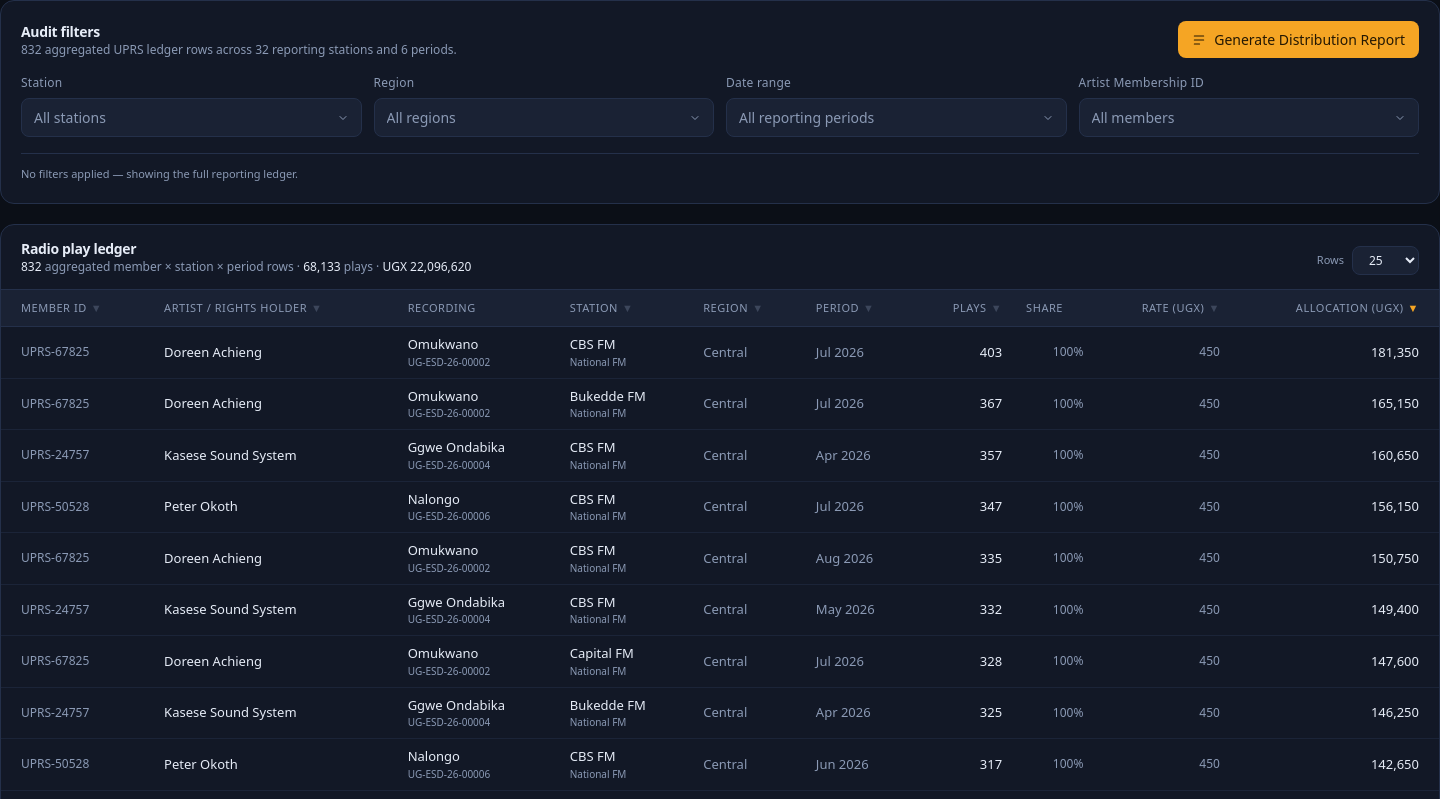
Scenario: CmoAudit › clears all filters from the chip row
What coordinates should you click on to do the following:
click the button "All regions"
I would click on:
 (421, 118)
Its box is 374,98 -> 714,137.
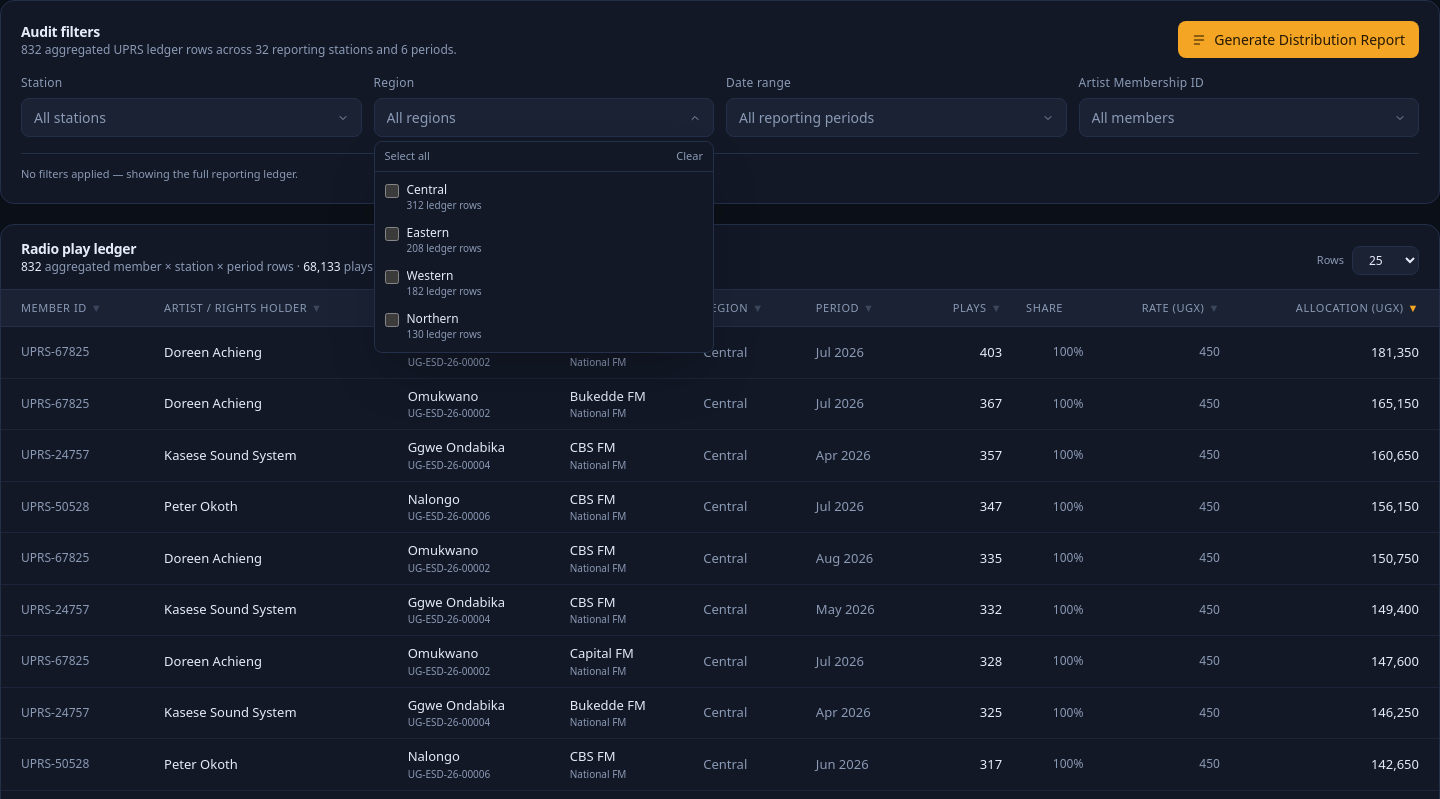
What coordinates should you click on to do the following:
click the checkbox labelled "Northern 130 ledger rows"
I would click on:
 (392, 320)
Its box is 384,312 -> 398,326.
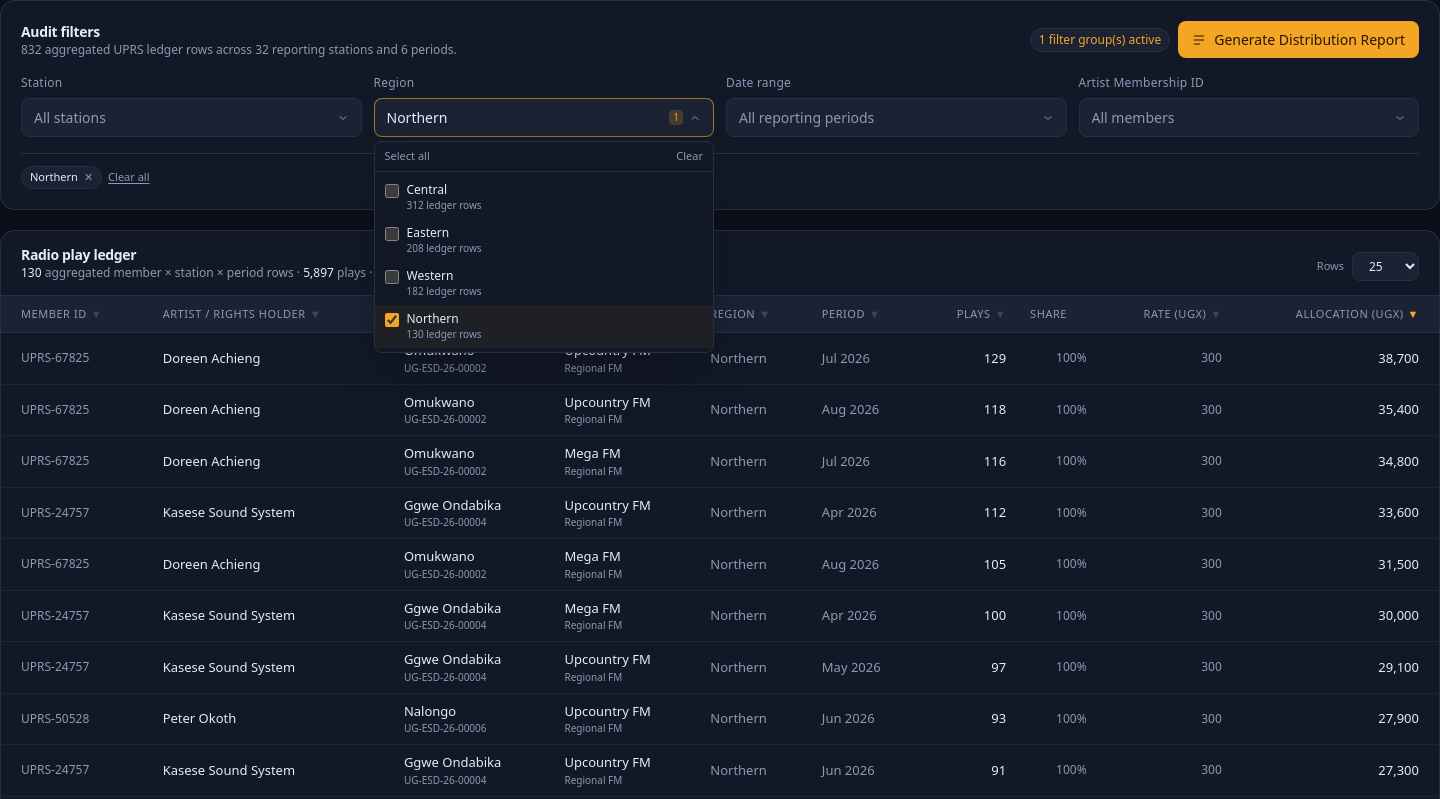
Check: the text "No filters applied" is gone
What coordinates should you click on to do the following:
click the button "Clear all"
I would click on:
 (129, 177)
Its box is 108,169 -> 150,186.
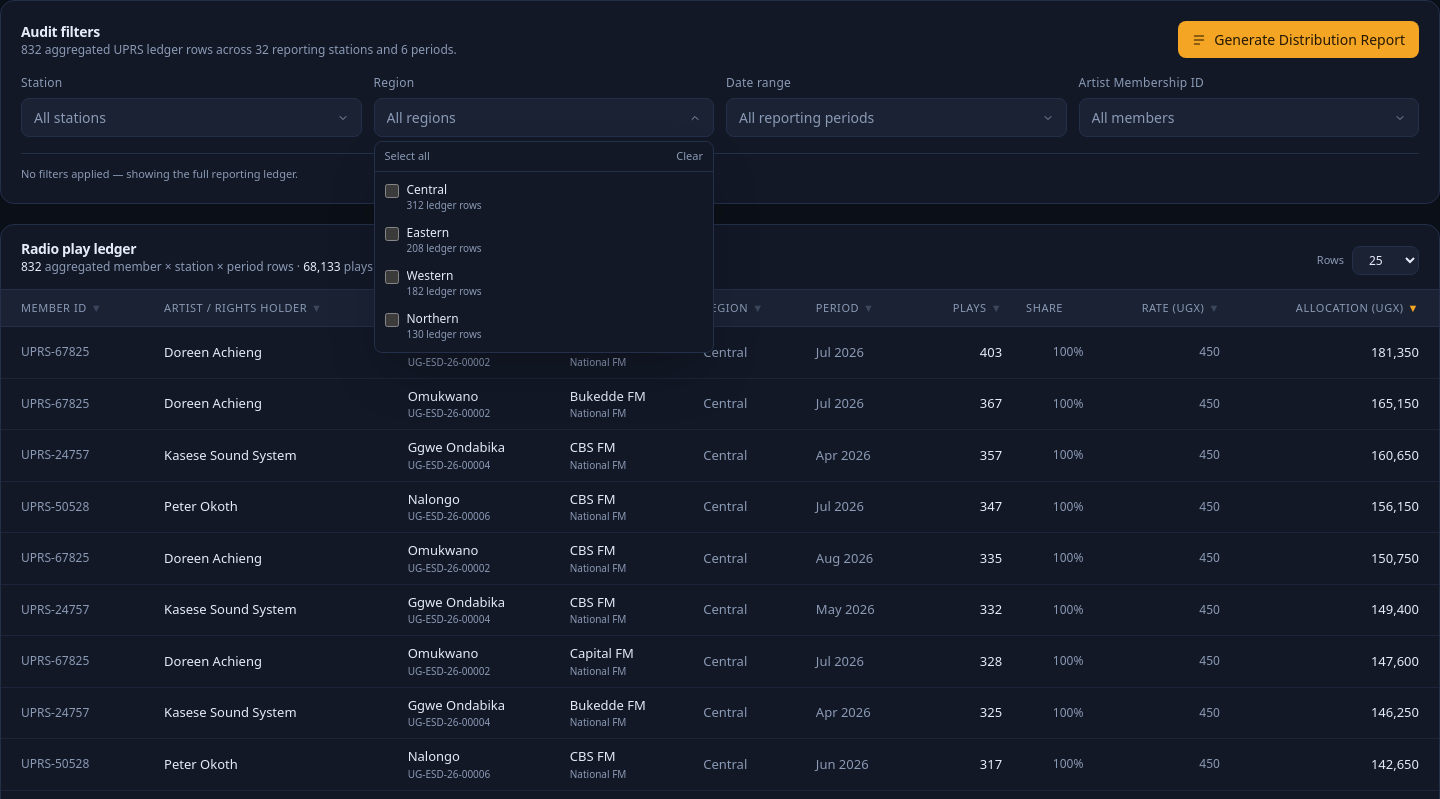
Check: the text "No filters applied — showing the full reporting ledger." is shown, box 21,166 -> 298,181
